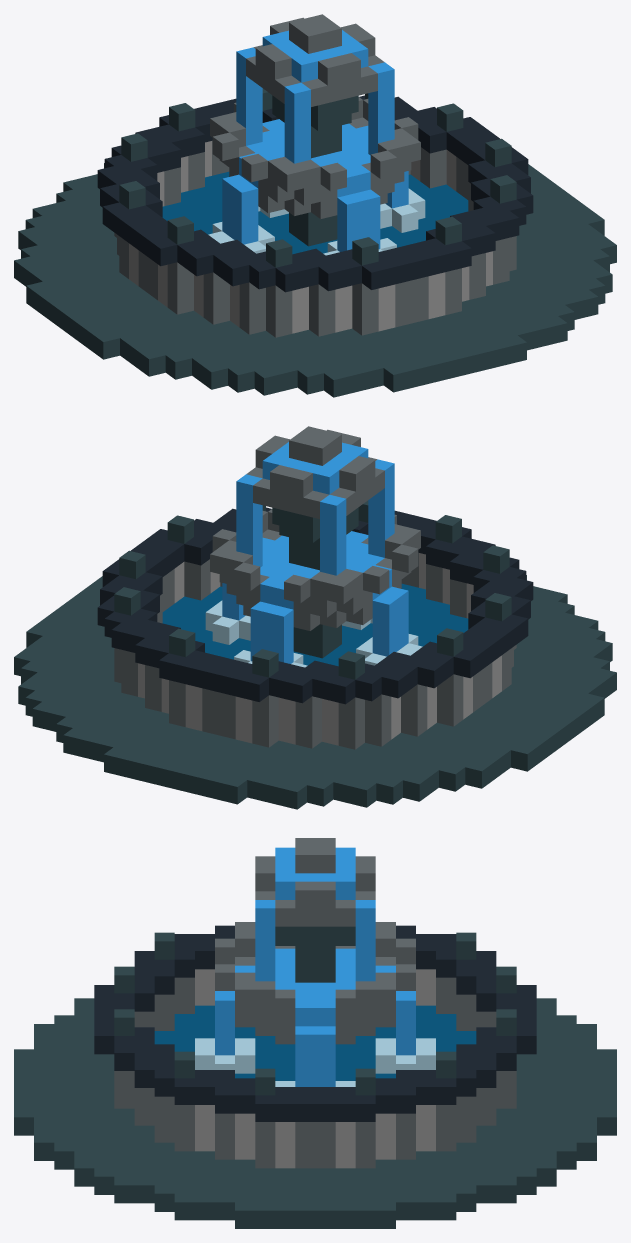
Rendered from fountain_overtile.obj.
The picture shows the model from 3 angles, top to bottom: view 1: azimuth 30°, elevation 25°; view 2: azimuth 150°, elevation 25°; view 3: azimuth 270°, elevation 25°; orthographic projection. The views are drawn at different scales.
Size of the model in its own units: 3 by 1.4 by 3.
Materials: 1 (1 with a texture image).
